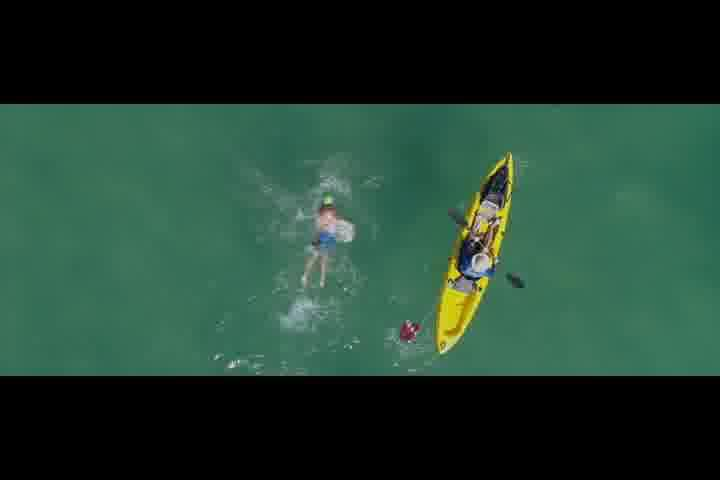swimmer: (294, 192, 358, 290)
